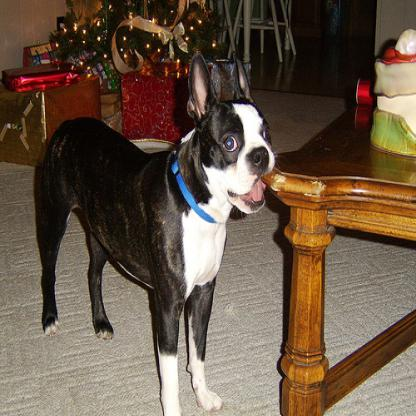dog: (38, 50, 276, 415)
